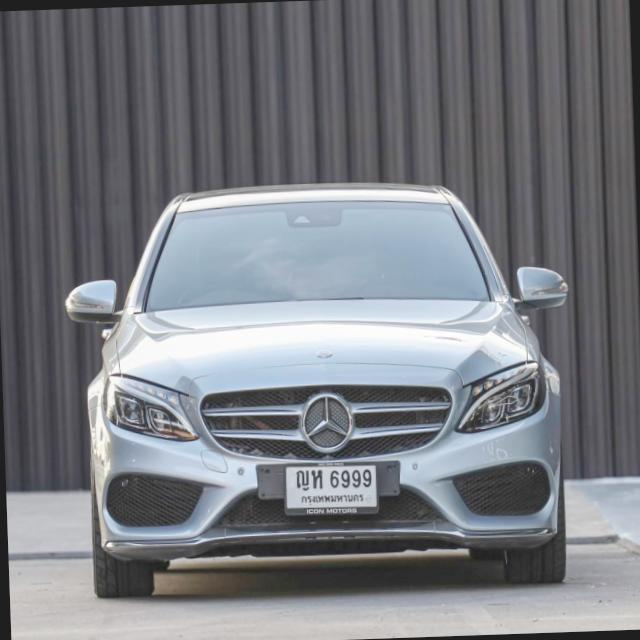license_plate: (283, 458, 382, 515)
